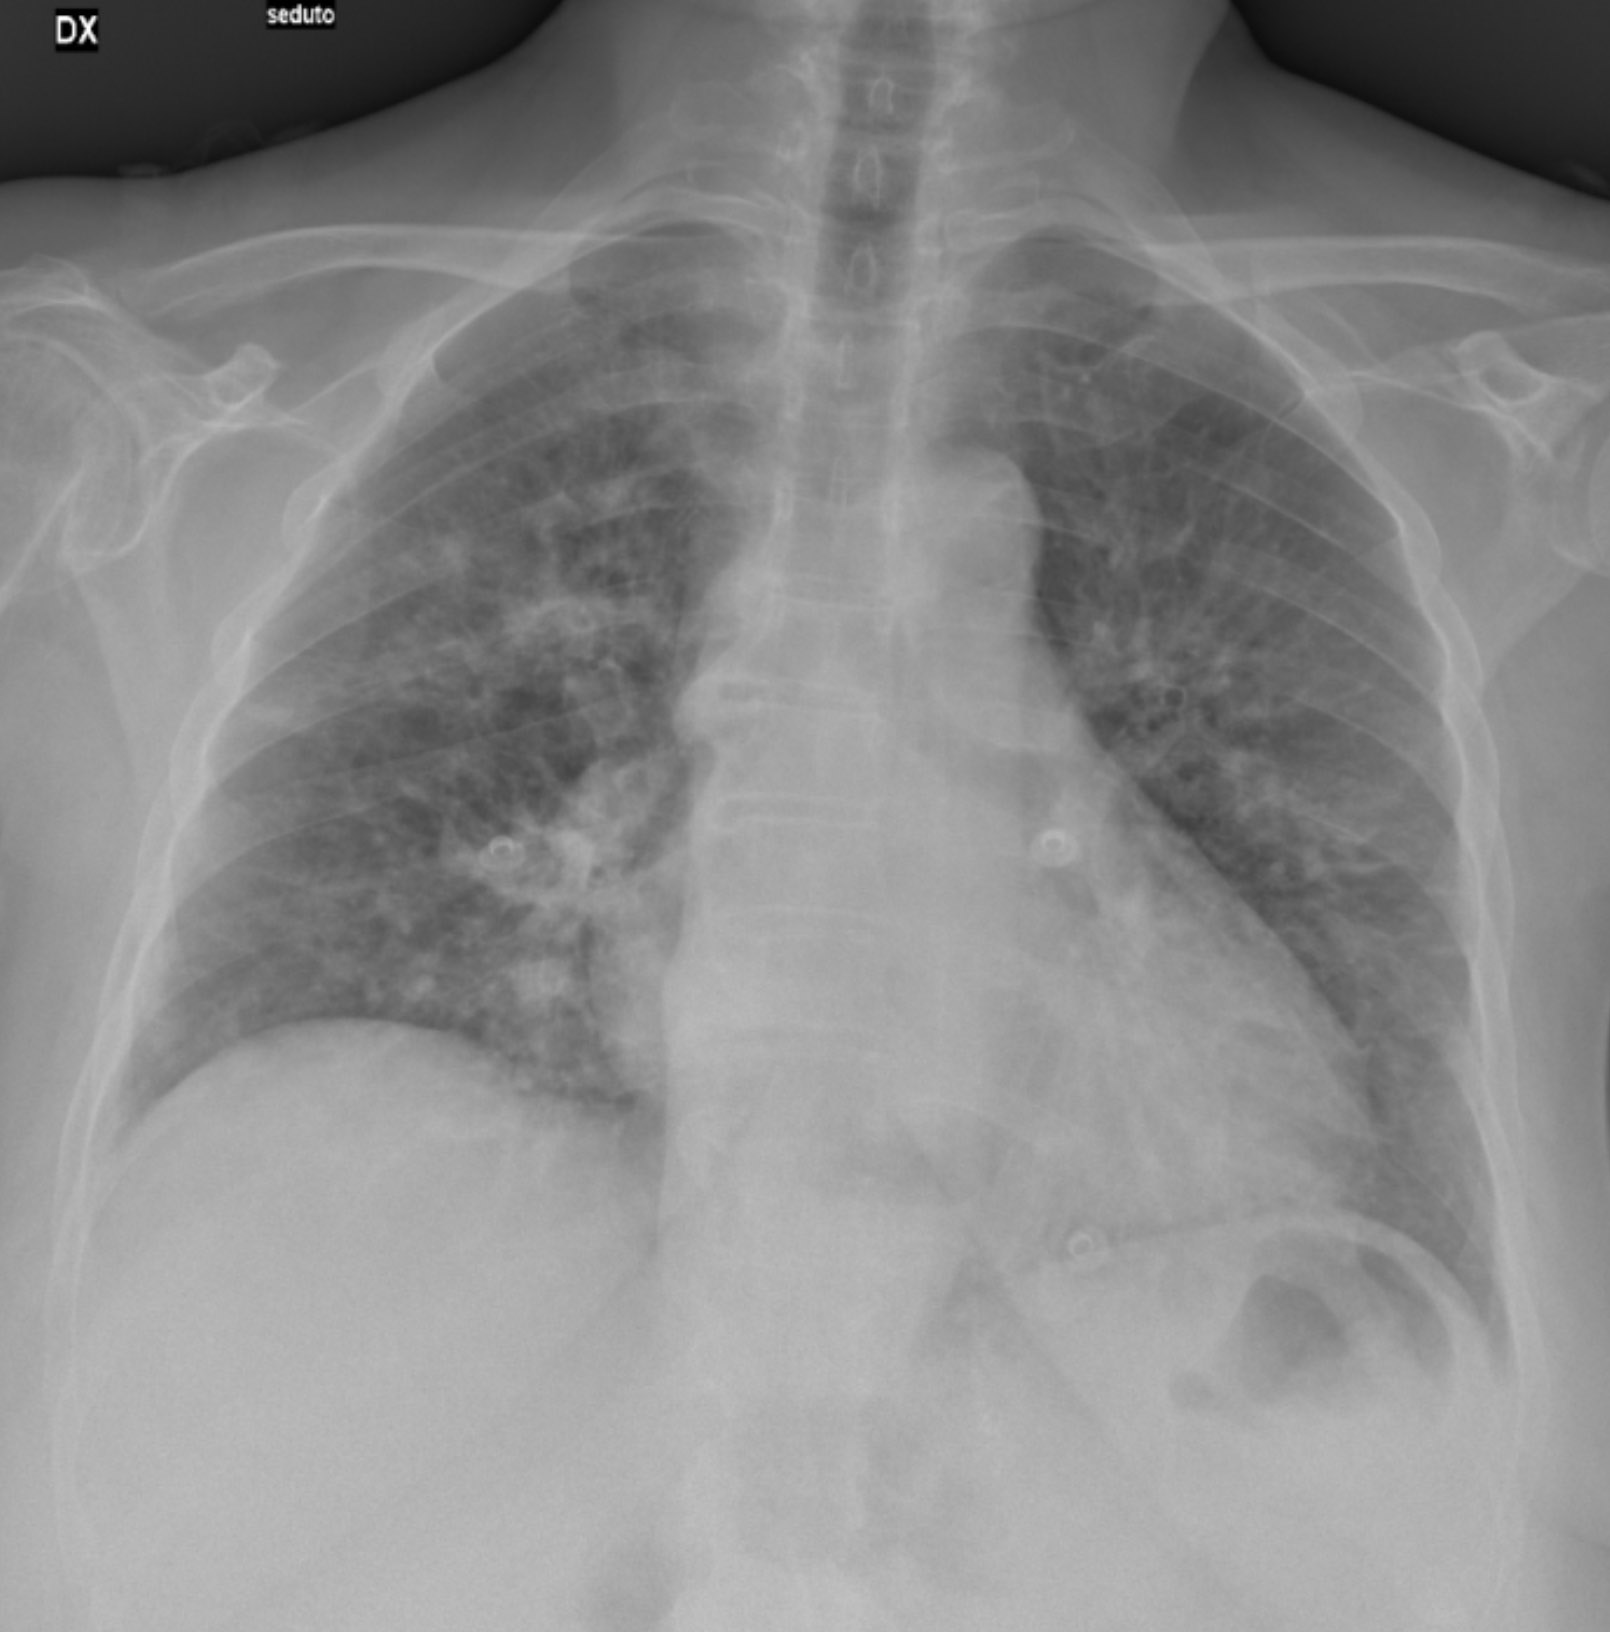Mildw: (933, 212, 1513, 1303), (125, 196, 762, 1144)
